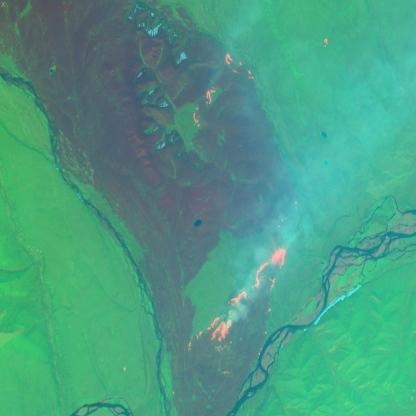fire: (186, 242, 288, 384), (191, 49, 257, 131), (320, 31, 332, 51)
